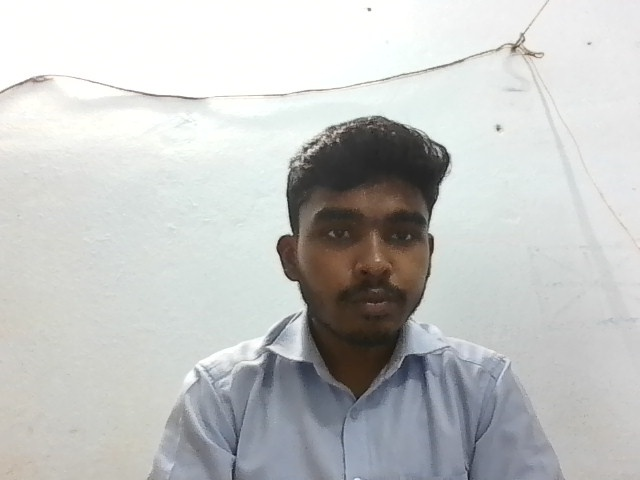real: (277, 112, 454, 363)
